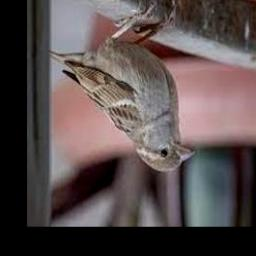Sparrow: (49, 5, 196, 172)
